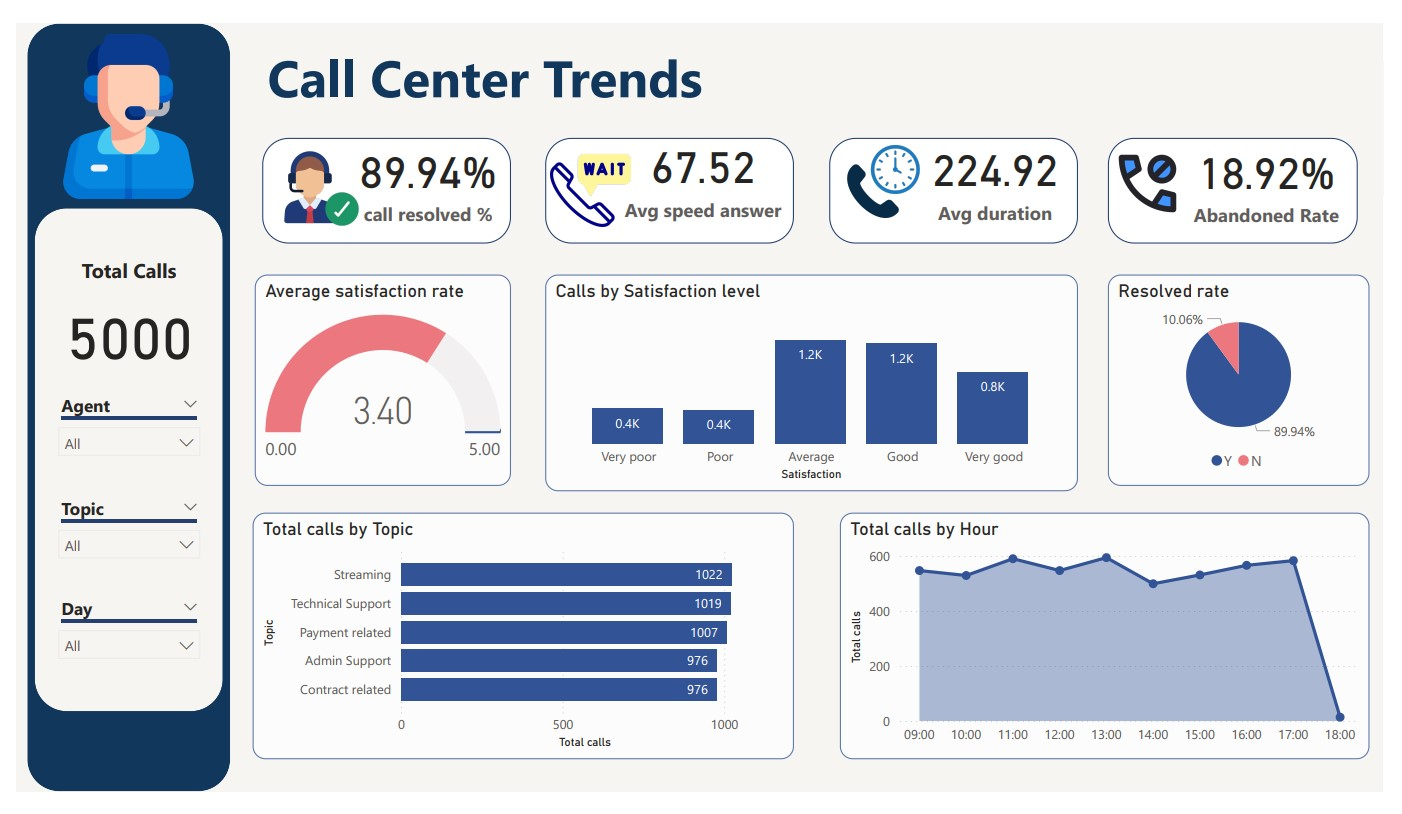

What the dashboard file says about the page in this screenshot:
{"tool":"powerbi","page":{"name":"Call Center Trends","canvas":[1280,720],"ordinal":0},"visuals":[{"type":"shape","box":[10,0,189.8,719.4],"z":0},{"type":"shape","box":[16.7,173.2,176.5,471.3],"z":500},{"type":"card","title":"Total Calls","fields":{"Values":["_measures.Total calls"]},"box":[24,207.7,163,131],"z":1000},{"type":"textbox","box":[229.8,11.7,471.3,94.9],"z":2000},{"type":"shape","box":[229.8,106.6,233.1,99.9],"z":3000},{"type":"shape","box":[494.6,106.6,233.1,99.9],"z":4000},{"type":"shape","box":[761,106.6,233.1,99.9],"z":5000},{"type":"shape","box":[1022.5,106.6,233.1,99.9],"z":6000},{"type":"card","fields":{"Values":["_measures.call resolved %"]},"box":[288.1,93.3,194.8,106.6],"z":7000},{"type":"card","fields":{"Values":["_measures.Average Speed of answer"]},"box":[524.6,93.3,236.5,98.2],"z":8000},{"type":"card","fields":{"Values":["_measures.Avg duration"]},"box":[811,93.3,211.5,104.9],"z":9000},{"type":"card","fields":{"Values":["_measures.Abandoned Rate"]},"box":[1072.4,89.9,196.5,114.9],"z":10000},{"type":"image","box":[23.3,0,163.2,173.2],"z":11000},{"type":"image","box":[244.8,58.3,81.6,193.2],"z":12000},{"type":"image","box":[772.7,64.9,78.3,164.9],"z":13000},{"type":"image","box":[494.6,83.3,84.9,146.5],"z":14000},{"type":"image","box":[1022.5,69.9,73.3,159.9],"z":15000},{"type":"slicer","fields":{"Values":["Call Center.Agent"]},"box":[24,337.1,163,95.9],"z":16000},{"type":"slicer","fields":{"Values":["Call Center.Topic"]},"box":[24,433,163,94.3],"z":17000},{"type":"slicer","fields":{"Values":["Call Center.Day"]},"box":[24,527.2,163,94.3],"z":18000},{"type":"clusteredColumnChart","title":"Calls by Satisfaction level","fields":{"Category":["Call Center.Satisfaction"],"Y":["_measures.Total calls"]},"box":[494.6,234.8,499.6,203.2],"z":19000},{"type":"pieChart","title":"Resolved rate","fields":{"Category":["Call Center.Resolved"],"Y":["_measures.Number of answered"]},"box":[1022.5,234.8,244.8,198.2],"z":20000},{"type":"gauge","title":"Average satisfaction rate","fields":{"Y":["_measures.Average satisfaction rating"]},"box":[223.1,234.8,239.8,198.2],"z":21000},{"type":"clusteredBarChart","fields":{"Category":["Call Center.Topic"],"Y":["_measures.Total calls"]},"box":[221.5,457.9,506.2,231.5],"z":22000},{"type":"lineChart","fields":{"Y":["_measures.Total calls"],"Category":["Call Center.Hour"]},"box":[771,457.9,496.2,231.5],"z":23000}]}

Visuals, with their boxes in screenshot pixels (x1, y1, x2, y2):
shape: 22:0:227:730
shape: 29:140:220:649
"Total Calls" card: 37:177:213:318
textbox: 259:0:768:68
shape: 259:68:511:176
shape: 545:68:797:176
shape: 833:68:1085:176
shape: 1115:68:1367:176
card - _measures.call resolved %: 322:53:533:168
card - _measures.Average Speed of answer: 578:53:833:159
card - _measures.Avg duration: 887:53:1115:167
card - _measures.Abandoned Rate: 1169:50:1382:174
image: 36:0:212:140
image: 275:16:364:224
image: 846:23:930:201
image: 545:43:637:201
image: 1115:28:1195:201
slicer - Call Center.Agent: 37:317:213:420
slicer - Call Center.Topic: 37:420:213:522
slicer - Call Center.Day: 37:522:213:624
"Calls by Satisfaction level" clusteredColumnChart: 545:206:1085:426
"Resolved rate" pieChart: 1115:206:1380:420
"Average satisfaction rate" gauge: 252:206:511:420
clusteredBarChart - Call Center.Topic x _measures.Total calls: 250:447:797:697
lineChart - _measures.Total calls x Call Center.Hour: 844:447:1380:697
